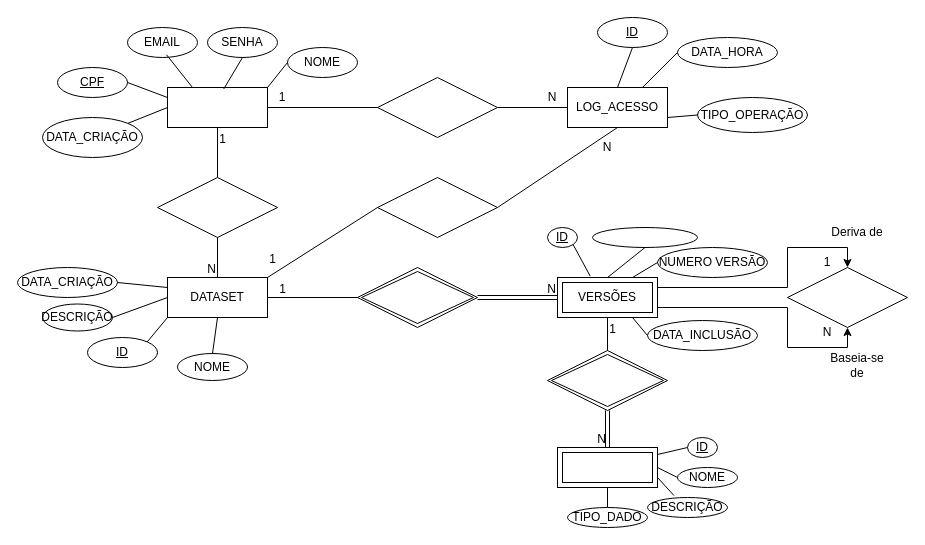
Some shapes in this 925 by 545 pixel diagram are drawn without their labels. The centre of each missing label's shape, as x and y in pixels:
ARQUIVO_PATH: the point at 645,237
CONTÉM: the point at 607,380
CRIA: the point at 217,207
FEATURES: the point at 607,467
POSSUI: the point at 417,297
REALIZA: the point at 437,107
REGISTRA: the point at 437,207
USUÁRIO: the point at 217,107
